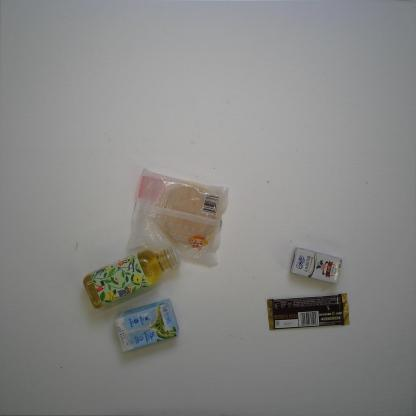Chocolate: (267, 292, 351, 330)
Dessert: (127, 167, 229, 267)
Drink: (83, 246, 182, 309)
Milk: (113, 298, 180, 353), (288, 247, 344, 284)
